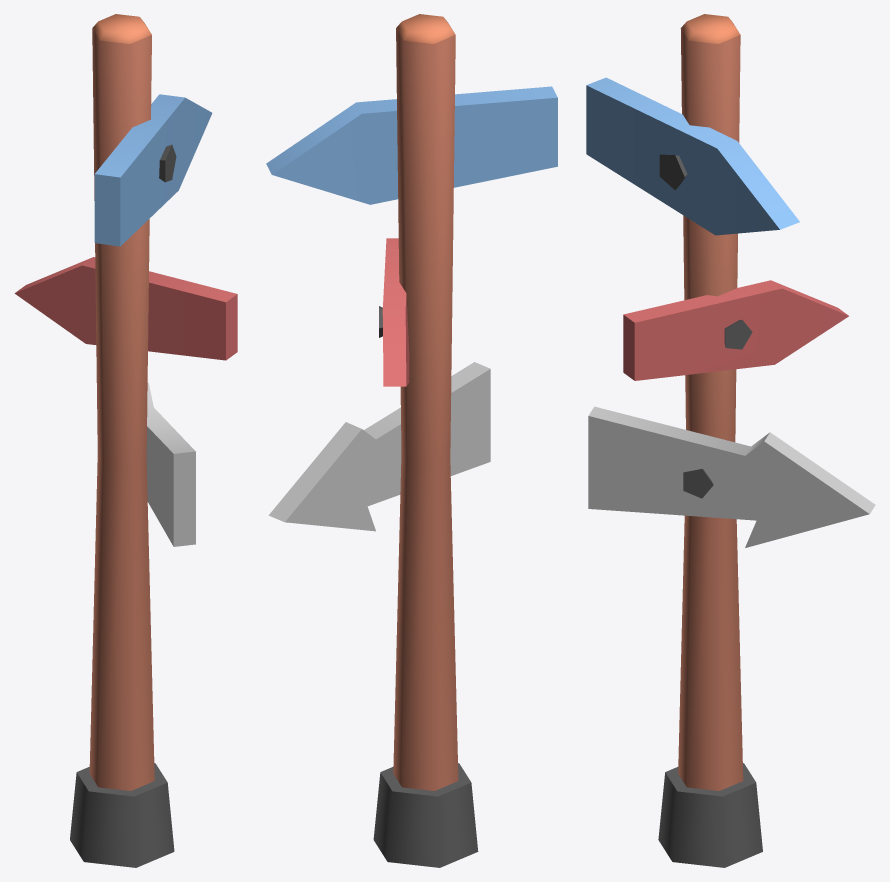
Rendered from pointer_001.glb.
The picture shows the model from 3 angles, left to right: view 1: azimuth 30°, elevation 25°; view 2: azimuth 150°, elevation 25°; view 3: azimuth 270°, elevation 25°; orthographic projection.
Parts seen in each view (by area): view 1: pointer_001; view 2: pointer_001; view 3: pointer_001.
Part boxes in pixels (x1=…): pointer_001: x1=14, y1=14, x2=237, y2=867; pointer_001: x1=266, y1=14, x2=557, y2=867; pointer_001: x1=586, y1=14, x2=875, y2=867.
Bounding box in the file's own units: 0.5671 × 2.17 × 0.6942.
1 material, 1 textured.
